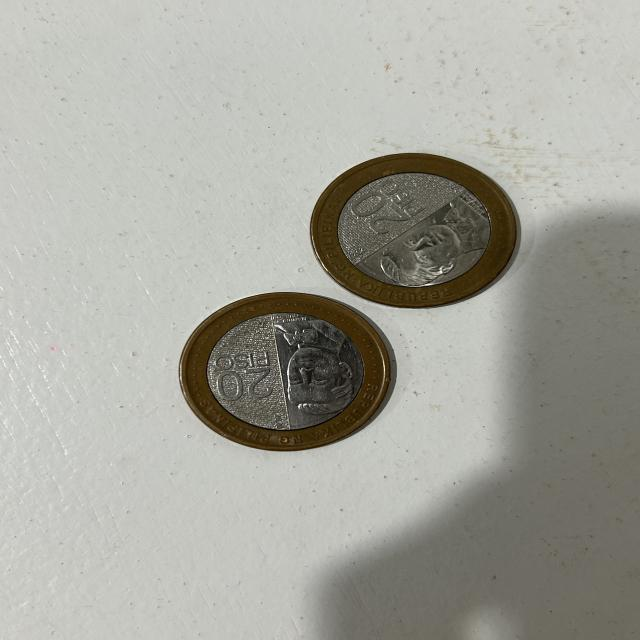20_New_Front: (346, 177, 426, 232), (211, 351, 283, 408)
